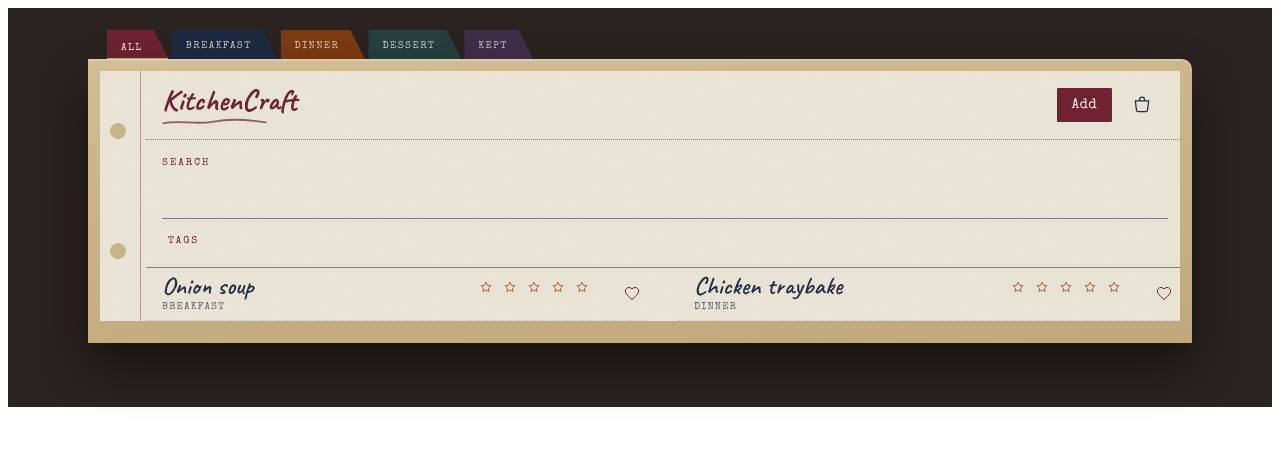
Scenario: search and filters on the page › offers the way out beside the count, as text rather than a button
Click the button with test id "tab-dinner" at (323, 45), box [280,30,365,60]
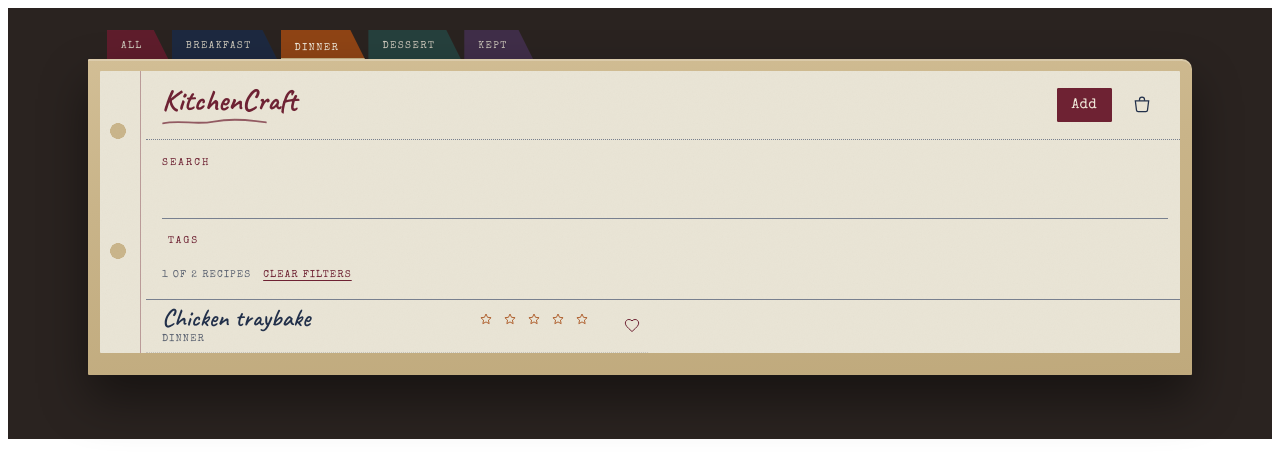
expect the element with test id "clear-filters" is shown: met, box [162,263,352,287]
Click the button with test id "clear-filters" at (308, 275), box [263,263,352,287]
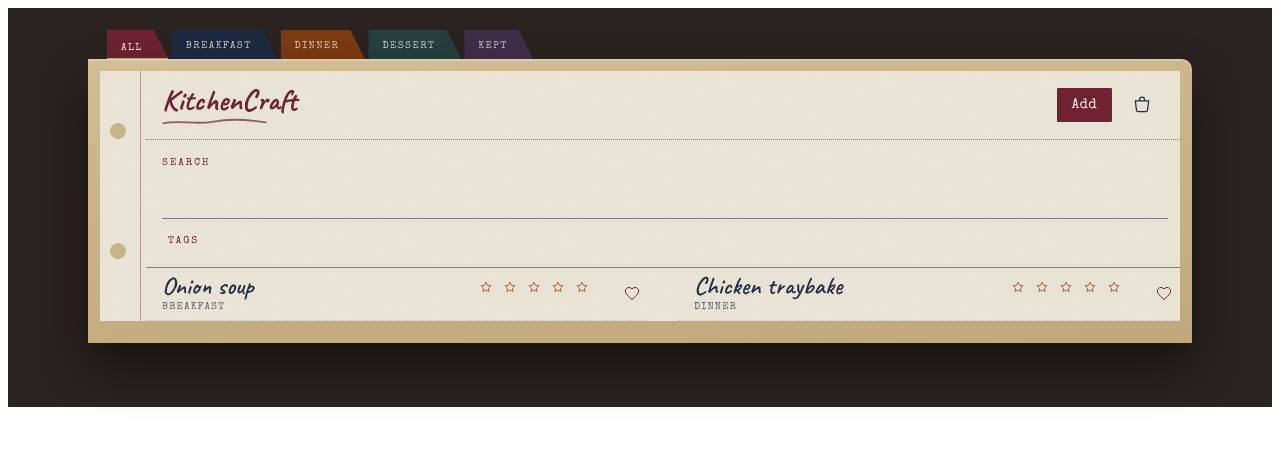
expect the number of list items with class "kc-row" is 2: met, box [146,268,648,321]; [678,268,1180,321]
